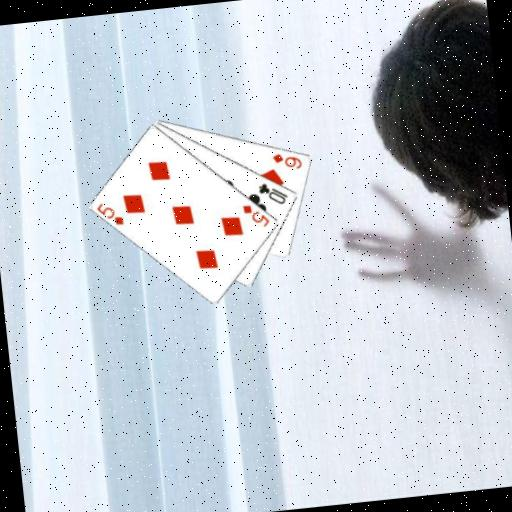10C: (255, 178, 291, 208)
5D: (240, 200, 273, 231), (93, 198, 126, 229)
6D: (269, 149, 304, 174)
